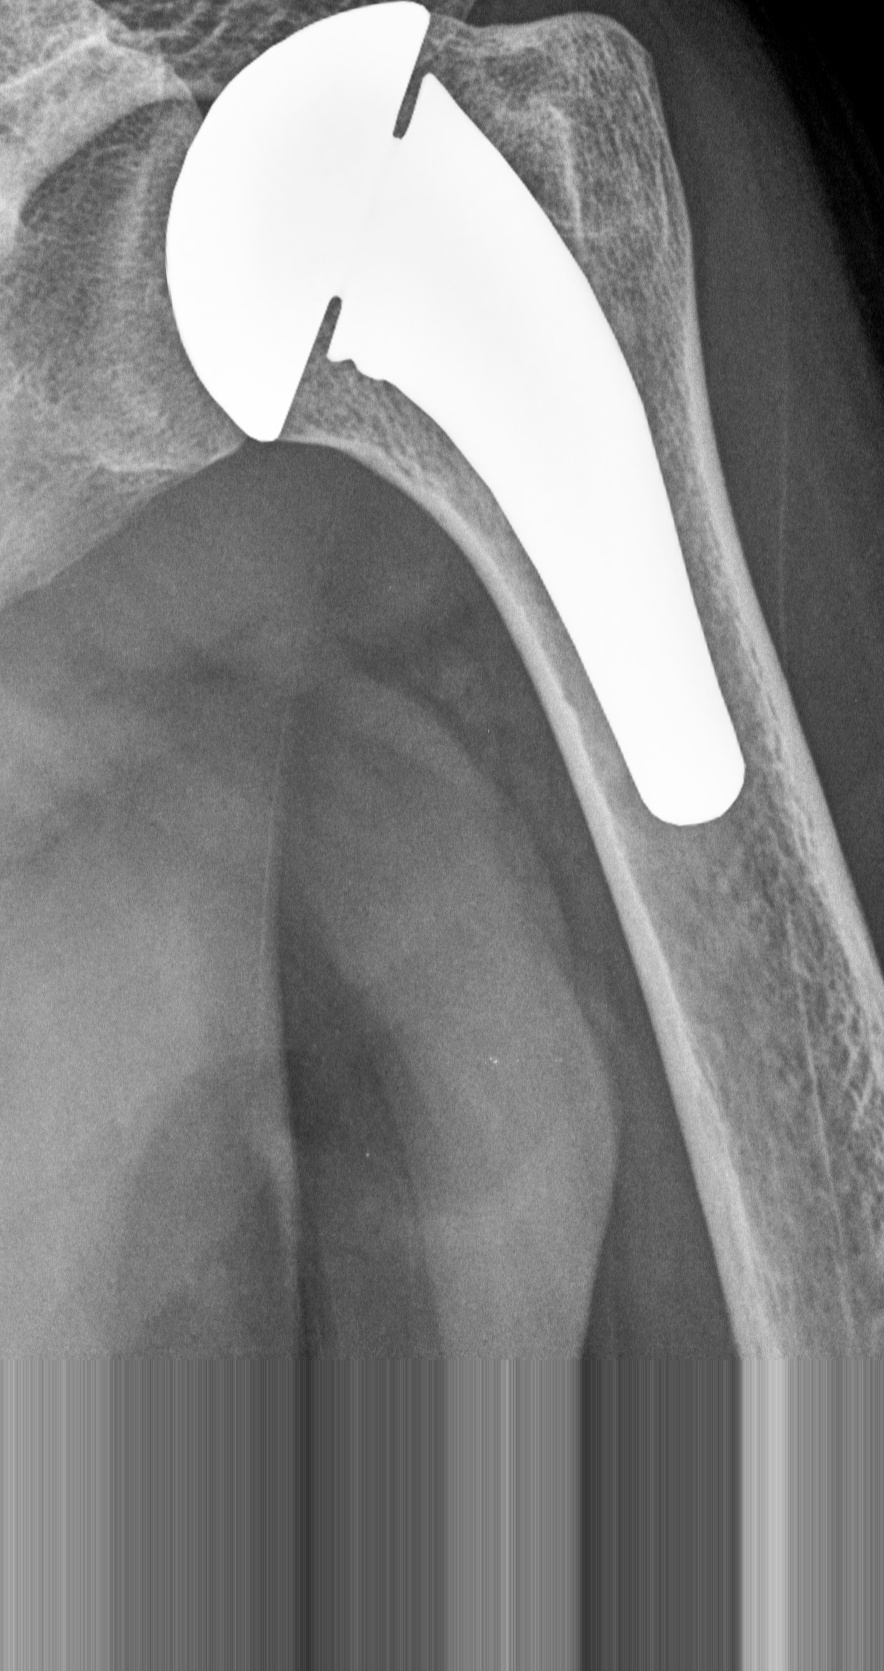Shoulder - AequalisAscendFlex - Tornier: (149, 1, 446, 452)
